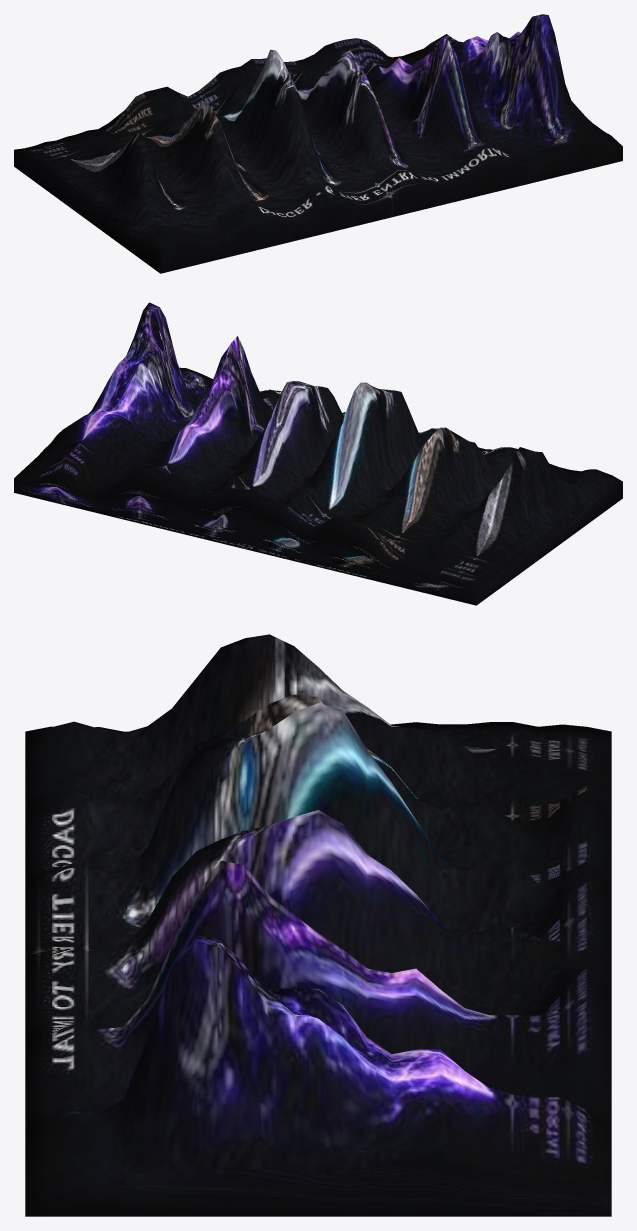
The model's file is ARSENAL_Dagger_6Tier.glb.
3 renders of one model, top to bottom at view 1: azimuth 30°, elevation 25°; view 2: azimuth 150°, elevation 25°; view 3: azimuth 270°, elevation 25°, orthographic. The views are drawn at different scales.
Parts seen in each view (by area): view 1: ARSENAL_Dagger_6Tier; view 2: ARSENAL_Dagger_6Tier; view 3: ARSENAL_Dagger_6Tier.
Part boxes in pixels (x1,y1,x2,y2): ARSENAL_Dagger_6Tier: (14,14,622,273); ARSENAL_Dagger_6Tier: (14,302,622,605); ARSENAL_Dagger_6Tier: (25,634,611,1216).
Bounding box in the file's own units: 2 × 0.51 × 1.1.
Materials: 1 (1 with a texture image).
